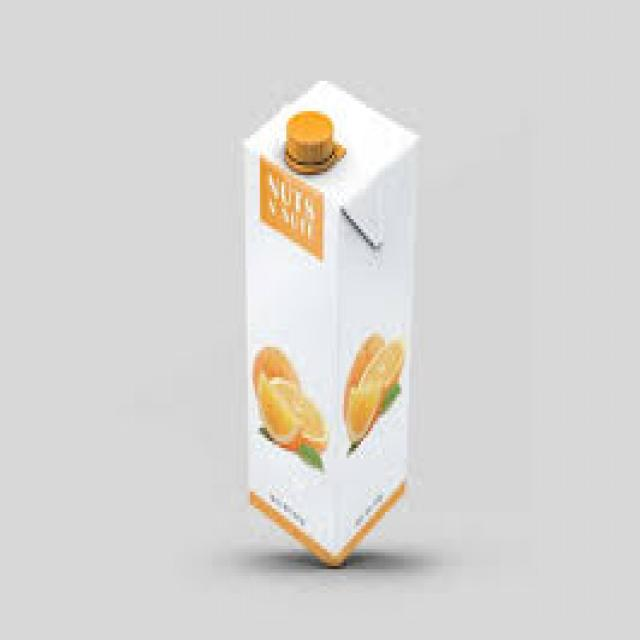non_white_jug: (232, 64, 425, 576)
